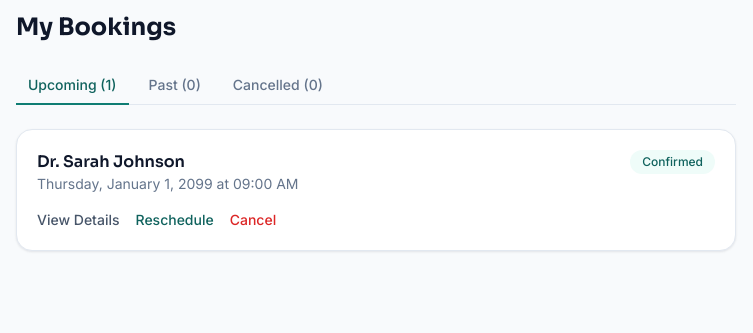
Scenario: MyBookings › cancels a booking after confirming
The image size is (753, 333).
Expected: the text "Dr. Sarah Johnson" is shown, x1=37 y1=151 x2=185 y2=172
Click the button "Cancel" at [253, 220], box x1=230 y1=210 x2=276 y2=230
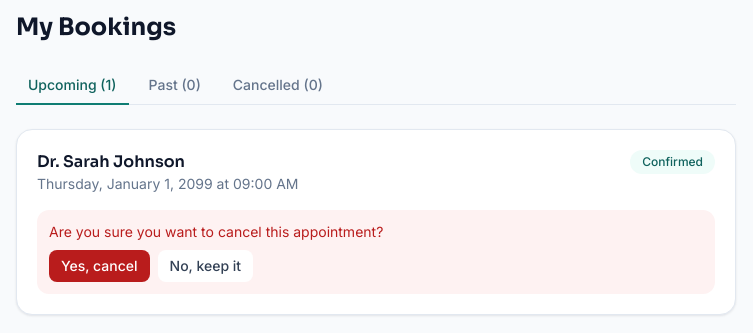
Result: the text "Are you sure you want to cancel this appointment?" is shown at x1=49 y1=223 x2=383 y2=240
Click the button "Yes, cancel" at [99, 266], box x1=49 y1=250 x2=150 y2=282
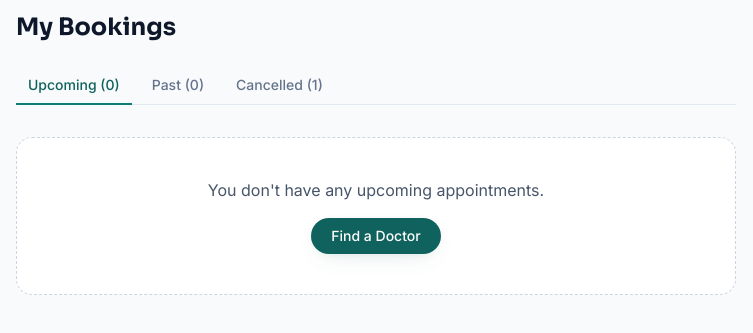
Click the tab "Cancelled (1)" at [280, 86], box x1=224 y1=67 x2=335 y2=105
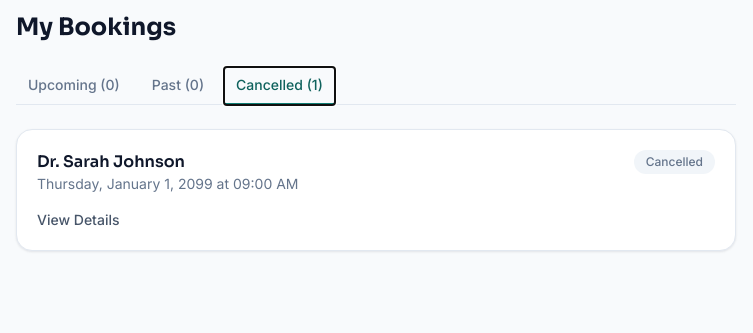
Result: the text "Dr. Sarah Johnson" is shown at x1=37 y1=151 x2=185 y2=172
